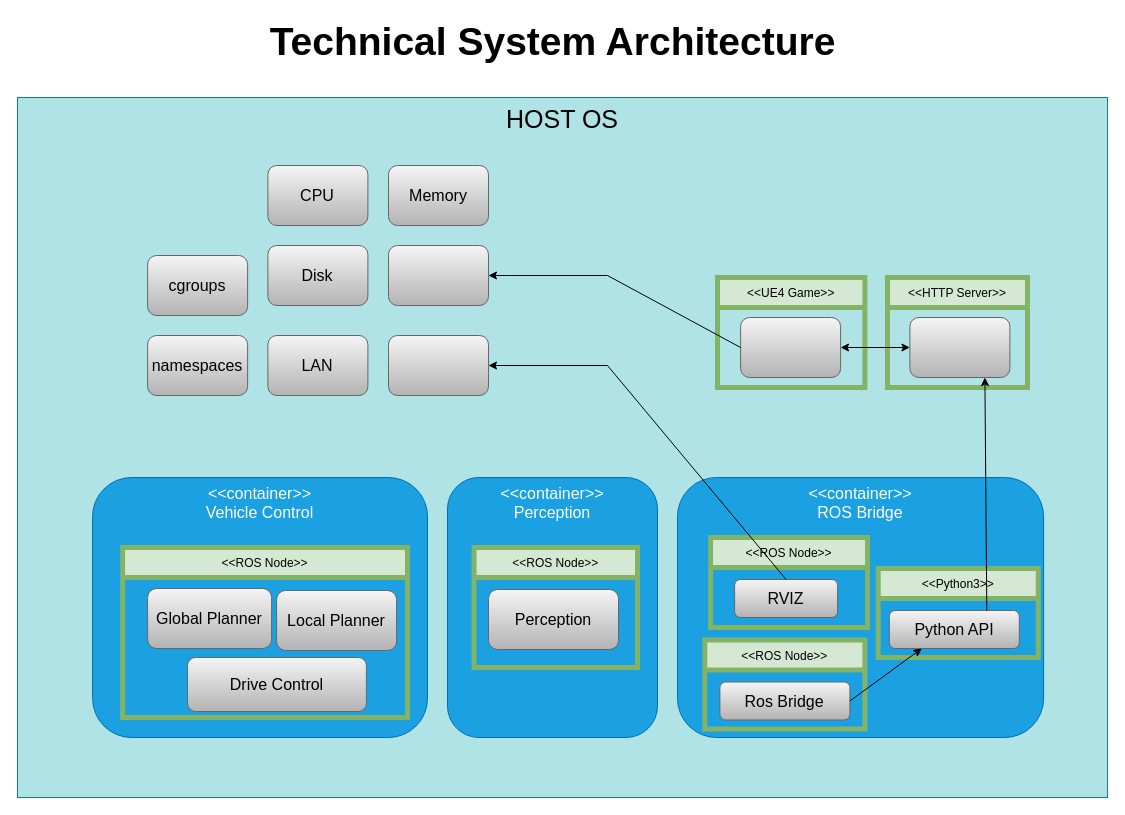
This 1125x815 diagram has some shape labels left out. The centre of each missing label's shape, as x and y in pixels:
CARLA Server: point 959,347
CARLA Simulator: point 790,347
GPU: point 438,275
x11 Server: point 438,365
